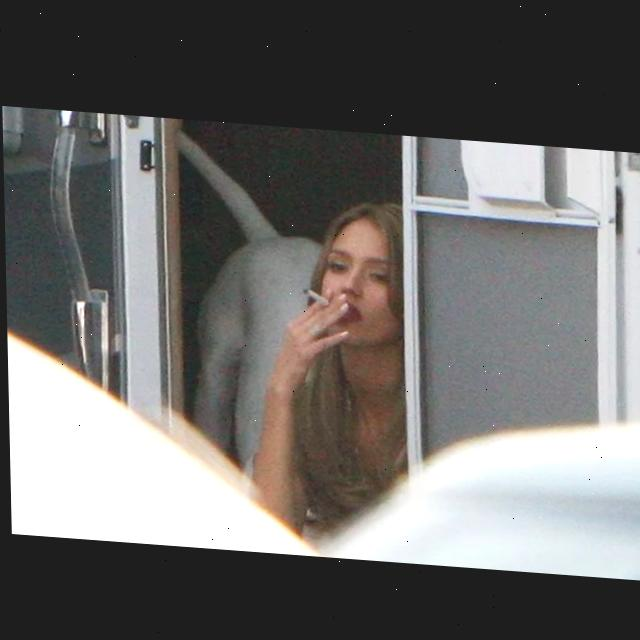cigarette: (302, 285, 328, 301)
